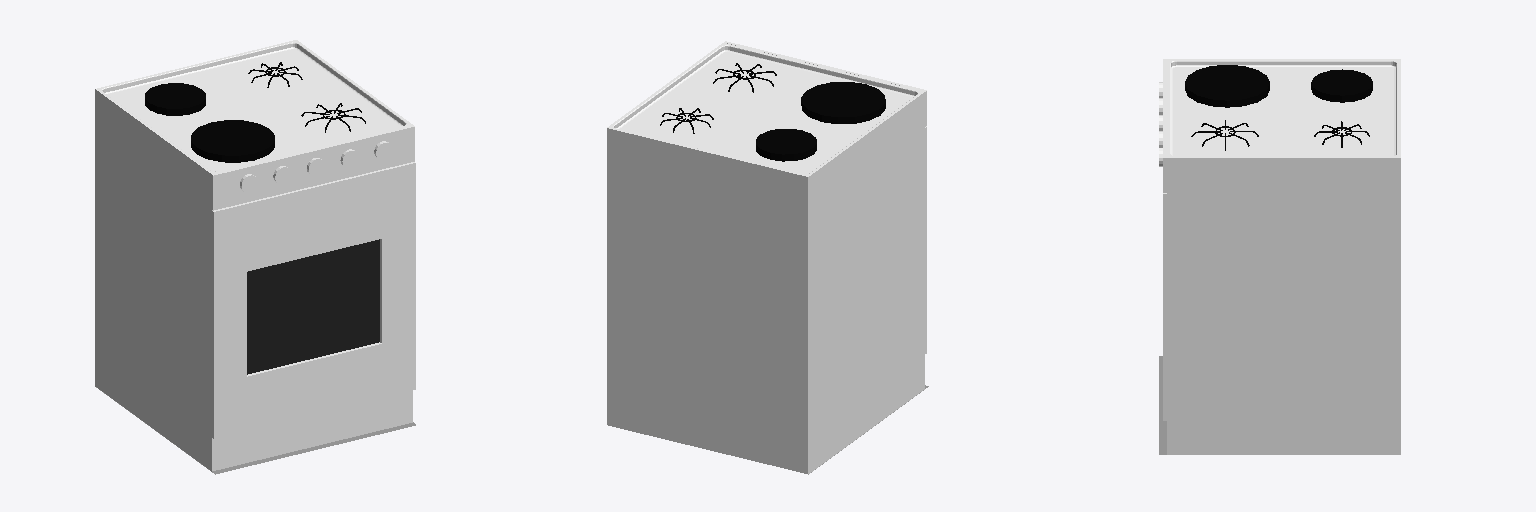
File: Estufa.obj
3 renders of one model, left to right at view 1: azimuth 30°, elevation 25°; view 2: azimuth 150°, elevation 25°; view 3: azimuth 270°, elevation 25°, orthographic.
Parts seen in each view (by area): view 1: Corps_4, sweethome3d_opening_on_hinge_1_door_26, Corps_32_5, sweethome3d_opening_on_hinge_1_window_27, Panneau_9, Feu_1_16, Feu_2, ground_1, Feu_1_32_17; view 2: Corps_4, Corps_32_5, Feu_1_16, Feu_2, Feu_1_32_17; view 3: Corps_4, Corps_32_5, Feu_1_16, Feu_2, sweethome3d_opening_on_hinge_1_door_26, Feu_1_32_17, Panneau_9, ground_1.
Boxes of the visible parts, box(x1,y1,x2,y2) form: Corps_4: box(95, 40, 412, 471); sweethome3d_opening_on_hinge_1_door_26: box(212, 162, 415, 438); Corps_32_5: box(102, 42, 406, 171); sweethome3d_opening_on_hinge_1_window_27: box(247, 239, 379, 374); Panneau_9: box(211, 125, 414, 210); Feu_1_16: box(191, 120, 274, 155); Feu_2: box(145, 83, 205, 108); ground_1: box(96, 387, 415, 474); Feu_1_32_17: box(191, 141, 274, 162); Corps_4: box(607, 43, 924, 473); Corps_32_5: box(613, 45, 917, 173); Feu_1_16: box(801, 82, 885, 116); Feu_2: box(756, 129, 816, 154); Feu_1_32_17: box(801, 99, 885, 123); Corps_4: box(1167, 59, 1400, 454); Corps_32_5: box(1170, 61, 1396, 155); Feu_1_16: box(1185, 65, 1269, 100); Feu_2: box(1311, 69, 1372, 95); sweethome3d_opening_on_hinge_1_door_26: box(1163, 193, 1166, 420); Feu_1_32_17: box(1185, 84, 1269, 107); Panneau_9: box(1163, 59, 1166, 192); ground_1: box(1159, 356, 1166, 454).
Size of the model in its own units: 60 by 85 by 62.